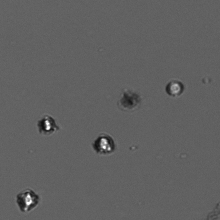Dead Cell: (118, 90, 141, 110)
Living Cell: (15, 187, 41, 214), (91, 133, 116, 155), (36, 114, 58, 135), (163, 79, 185, 97)
